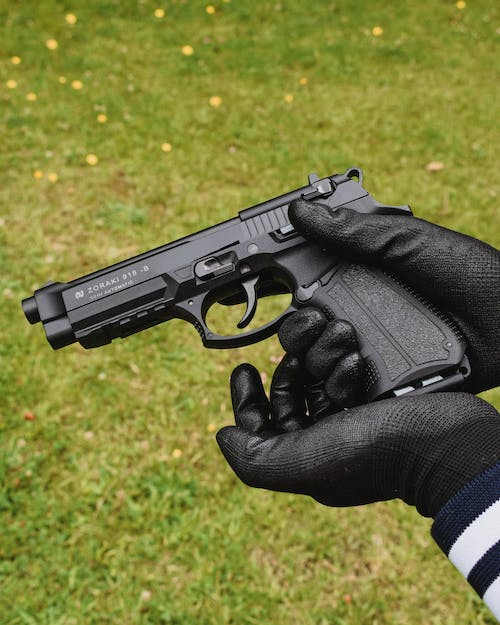gun: (18, 165, 479, 405)
